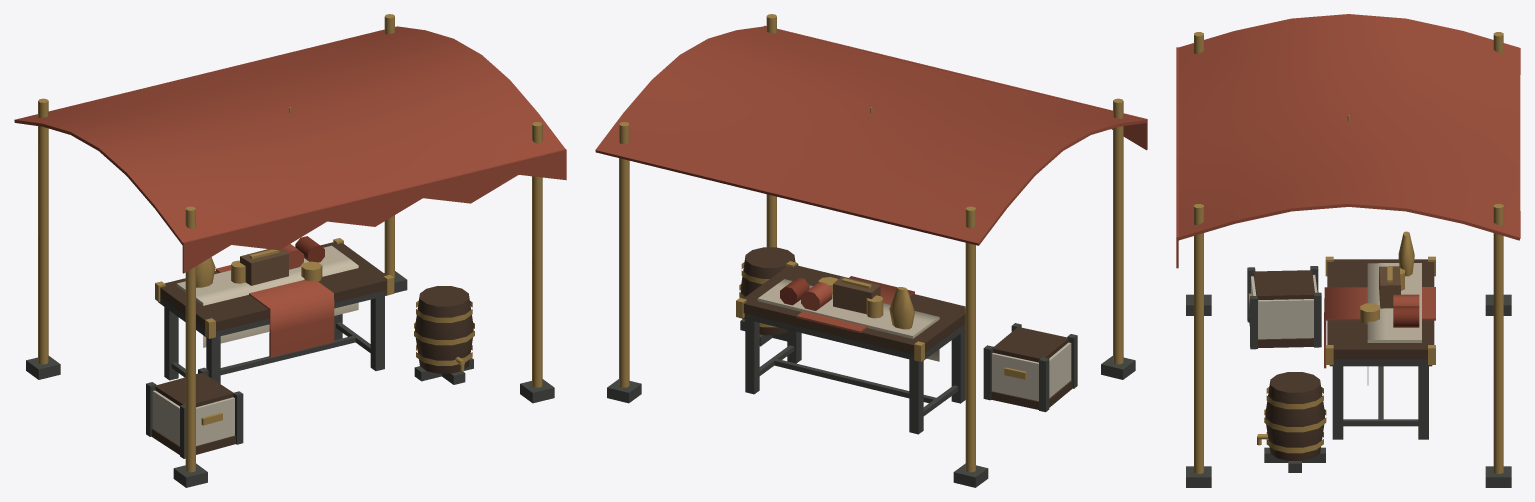
File: tent.glb
3 renders of one model, left to right at view 1: azimuth 30°, elevation 25°; view 2: azimuth 150°, elevation 25°; view 3: azimuth 270°, elevation 25°, orthographic.
Visible parts, largest first — view 1: tent; view 2: tent; view 3: tent.
Part boxes in pixels (bbox=[...]): tent: bbox=[14, 14, 566, 487]; tent: bbox=[595, 14, 1147, 487]; tent: bbox=[1176, 14, 1520, 487].
Size of the model in its own units: 4.2 by 2.96 by 3.21.
